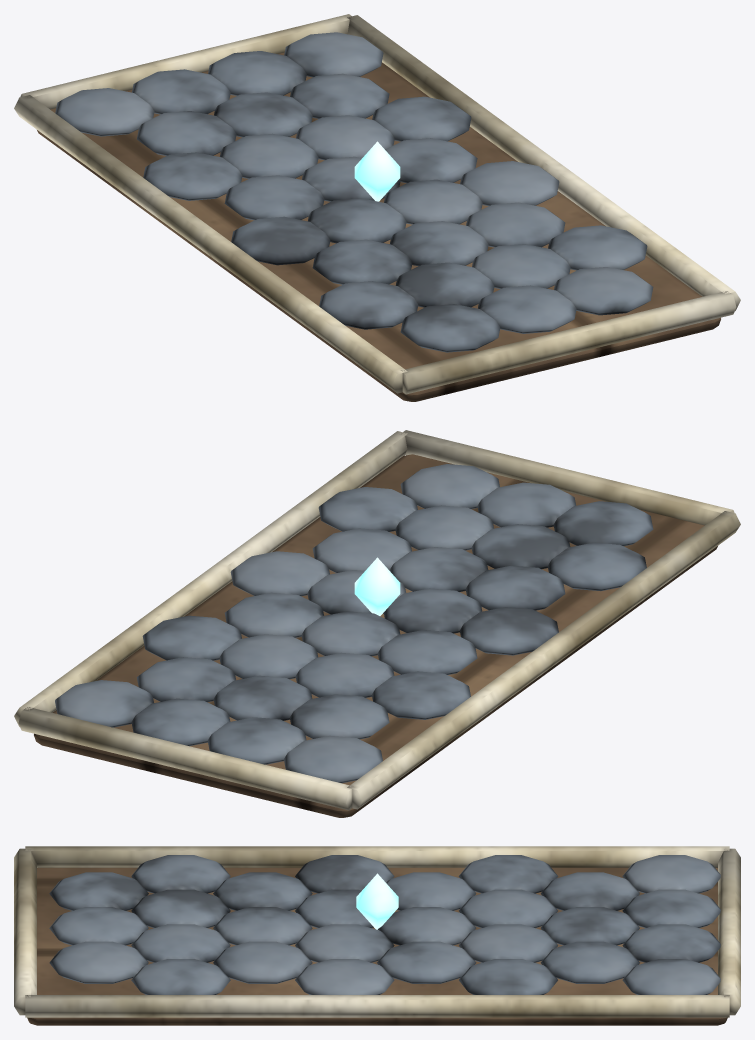
File: WhalescaleTower.fbx
3 renders of one model, top to bottom at view 1: azimuth 30°, elevation 25°; view 2: azimuth 150°, elevation 25°; view 3: azimuth 270°, elevation 25°, orthographic. The views are drawn at different scales.
Parts seen in each view (by area): view 1: WhalescaleTower; view 2: WhalescaleTower; view 3: WhalescaleTower.
Boxes of the visible parts, box(x1,y1,x2,y2) form: WhalescaleTower: box(14, 14, 740, 401); WhalescaleTower: box(14, 430, 740, 817); WhalescaleTower: box(14, 846, 740, 1025).
Size of the model in its own units: 0.458 by 0.1524 by 0.888.
